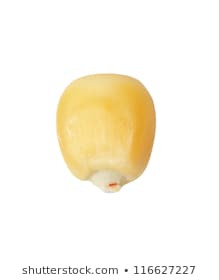corn: (55, 74, 156, 192)
